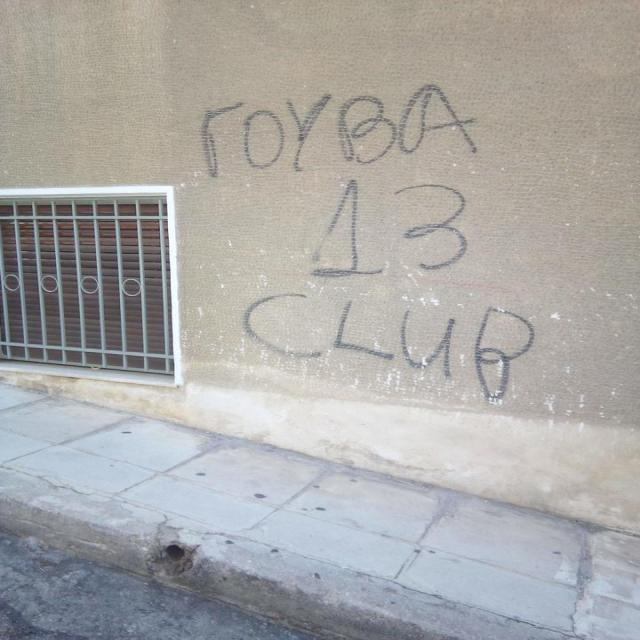nonspitting: (202, 84, 536, 400)
